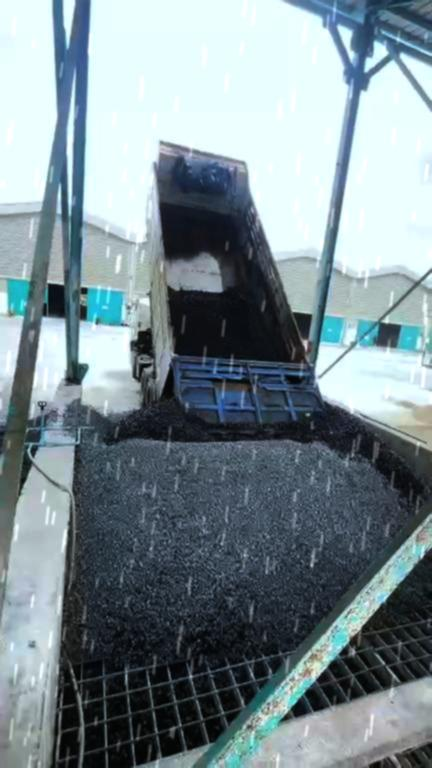gravel: (63, 378, 431, 665), (169, 288, 288, 360), (388, 554, 431, 612)
sand: (396, 400, 431, 443)
